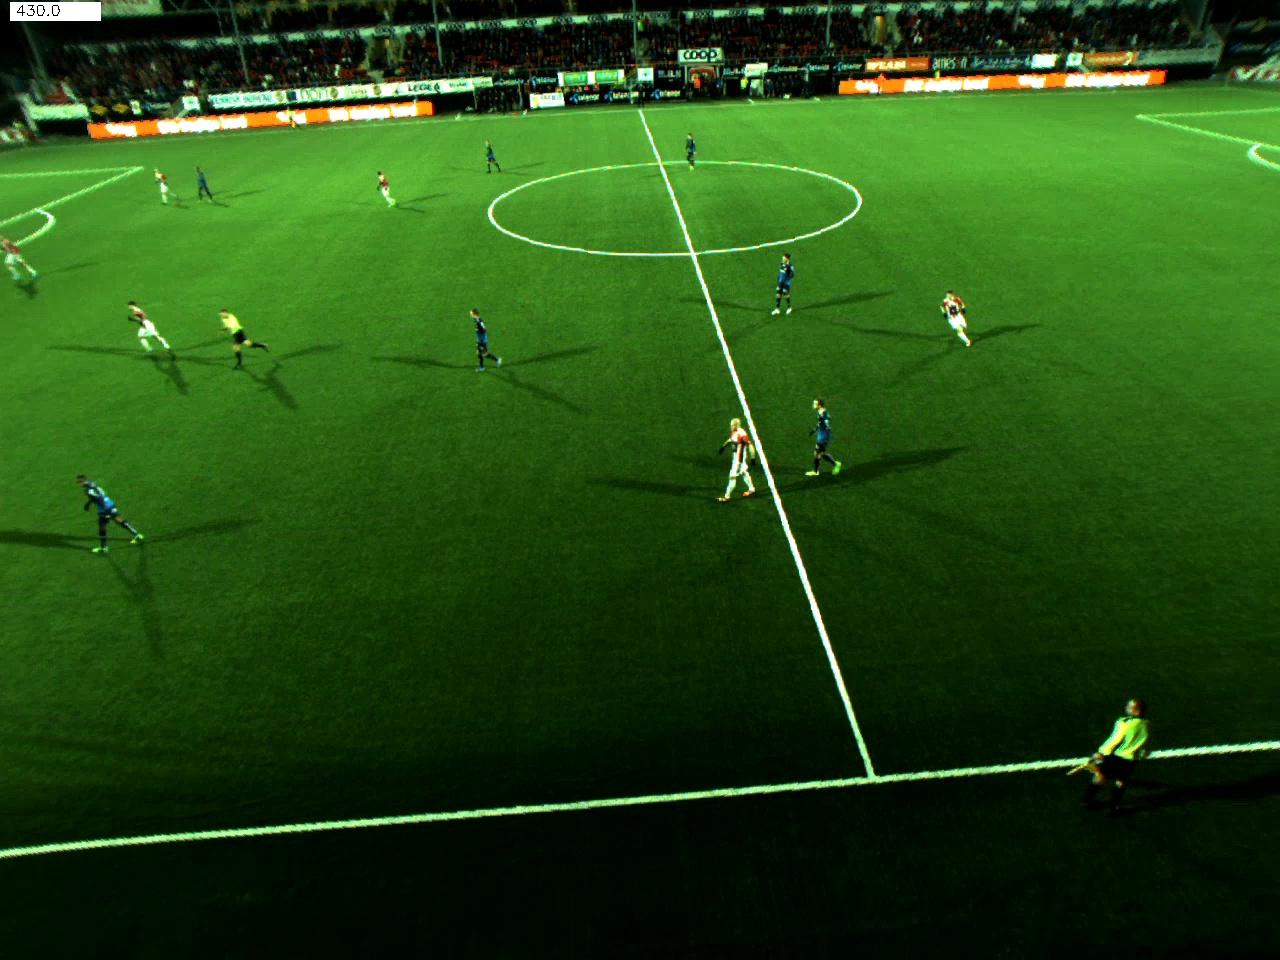blue: (69, 466, 160, 559), (806, 398, 835, 498), (466, 307, 509, 370), (771, 246, 803, 328), (473, 141, 506, 182), (188, 166, 214, 214), (676, 125, 695, 185)
red: (714, 417, 767, 509), (935, 288, 995, 355), (123, 295, 173, 371), (2, 237, 52, 288), (373, 164, 406, 213), (146, 162, 174, 207)
yellow: (1074, 685, 1145, 817), (214, 303, 264, 369)
